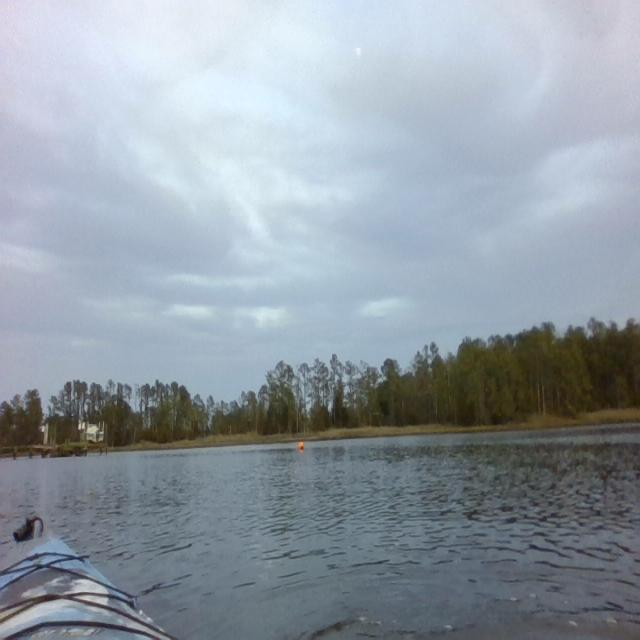Buoy: (296, 432, 308, 459)
